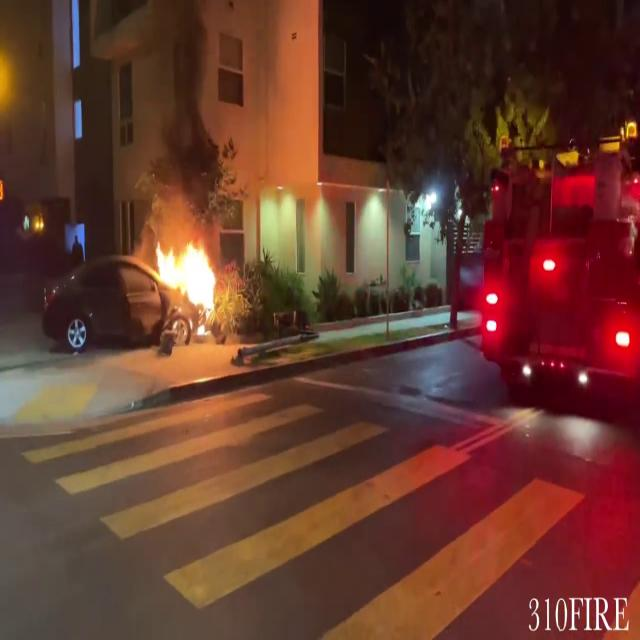Fire: (148, 233, 226, 329)
Smoke: (128, 0, 228, 216)
